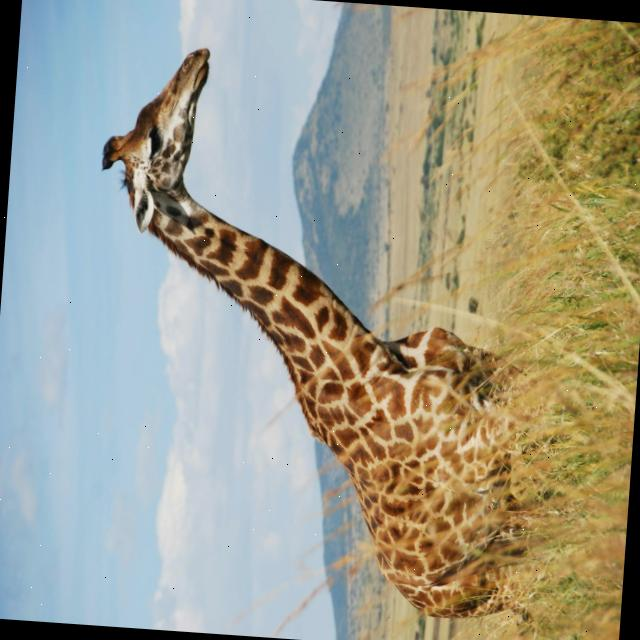Giraffe: (70, 38, 568, 617)
